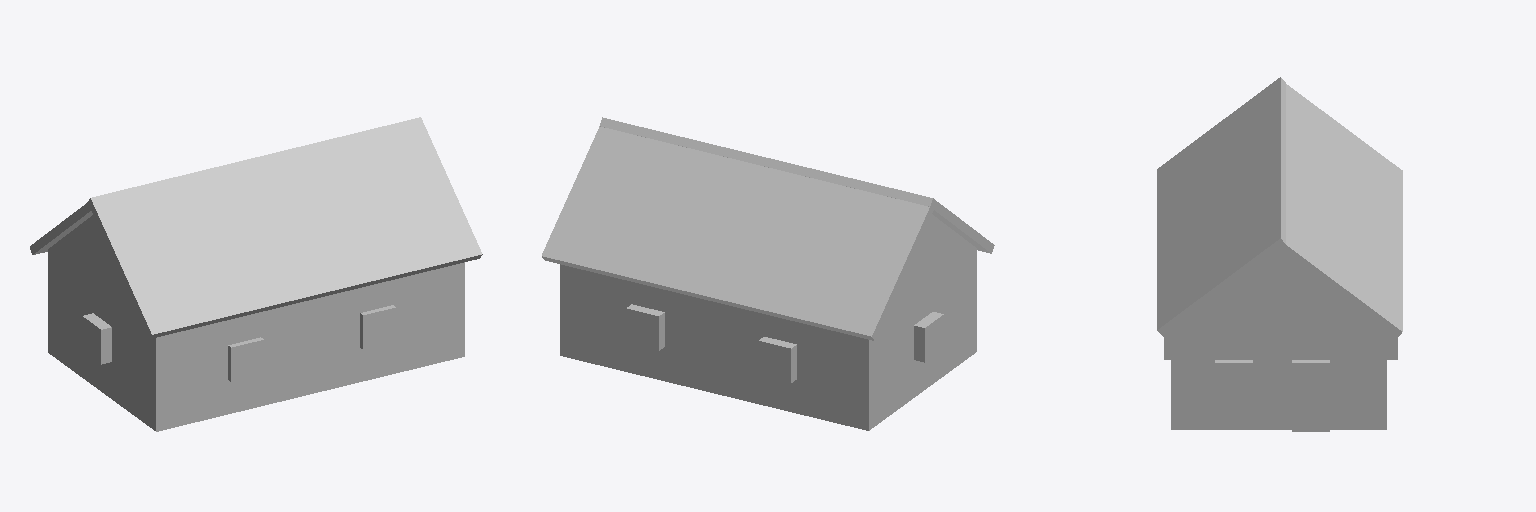
File: house_west.obj
3 renders of one model, left to right at view 1: azimuth 30°, elevation 25°; view 2: azimuth 150°, elevation 25°; view 3: azimuth 270°, elevation 25°, orthographic.
Visible parts, largest first — view 1: mesh[number redacted]; view 2: mesh[number redacted]; view 3: mesh[number redacted].
Boxes of the visible parts, box(x1,y1,x2,y2) form: mesh[number redacted]: box(30, 117, 482, 431); mesh[number redacted]: box(542, 117, 994, 430); mesh[number redacted]: box(1157, 77, 1402, 431).
Size of the model in its own units: 1 by 0.5687 by 0.6437.